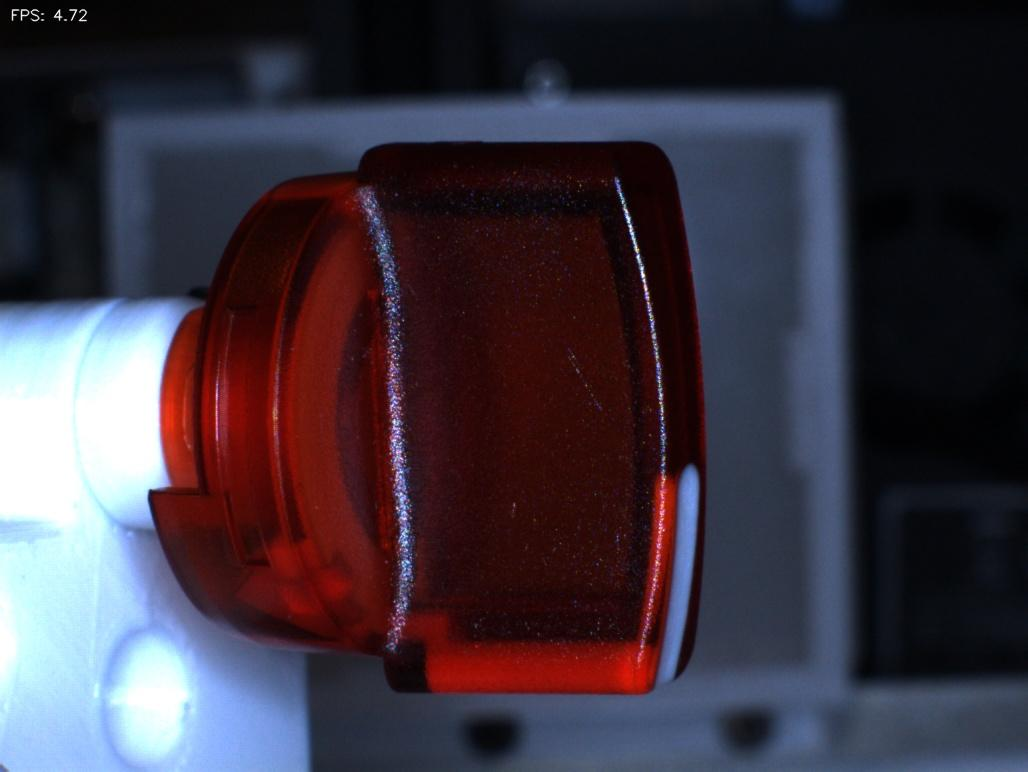Givrage: (546, 316, 625, 439)
